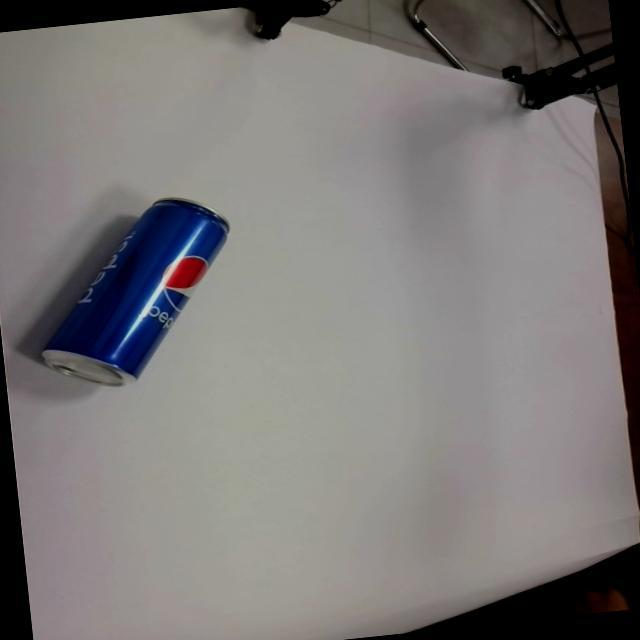debris: (24, 190, 245, 395)
